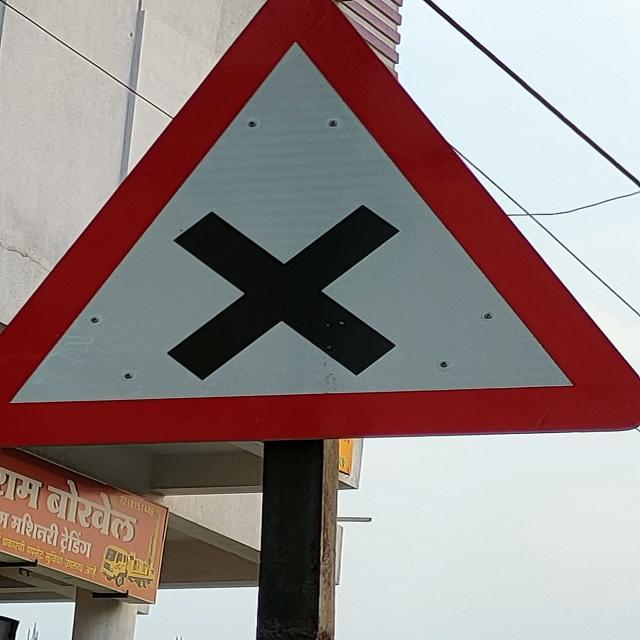cross road: (16, 8, 625, 445)
